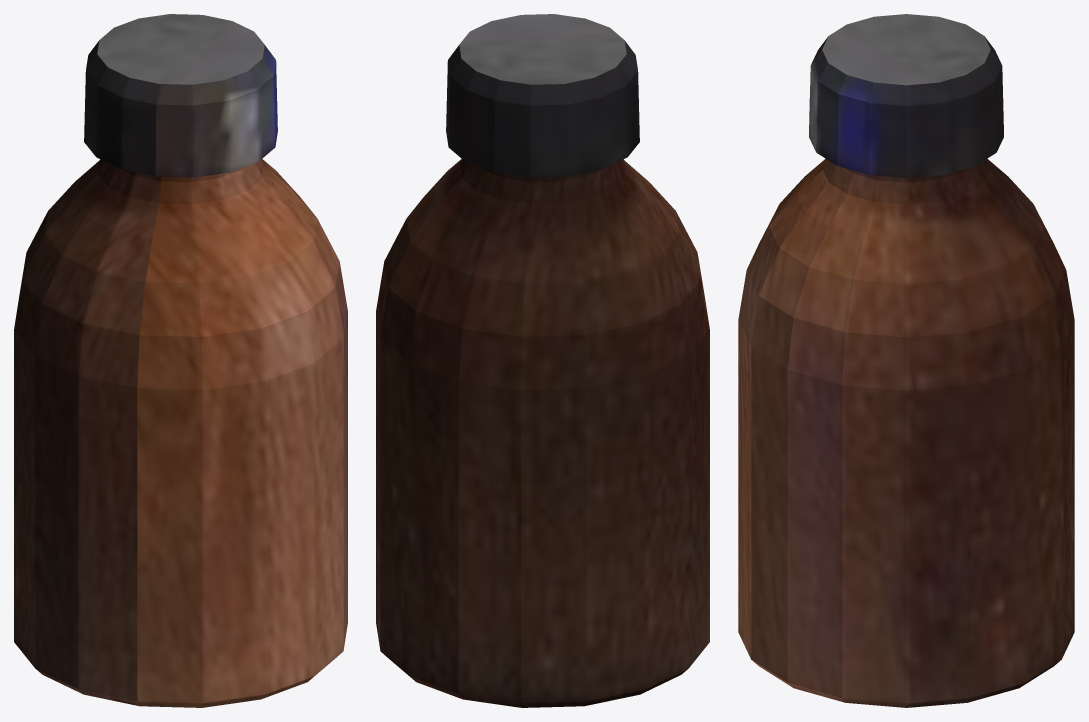
The model's file is thermos.glb.
The picture shows the model from 3 angles, left to right: view 1: azimuth 30°, elevation 25°; view 2: azimuth 150°, elevation 25°; view 3: azimuth 270°, elevation 25°; orthographic projection.
Visible parts, largest first — view 1: thermos; view 2: thermos; view 3: thermos.
Part boxes in pixels (left/top/right/bottom): thermos: left=14, top=14, right=347, bottom=707; thermos: left=376, top=14, right=709, bottom=707; thermos: left=738, top=14, right=1074, bottom=707.
Size of the model in its own units: 0.8267 by 1.6 by 0.8267.
Materials: 2 (2 with a texture image).
